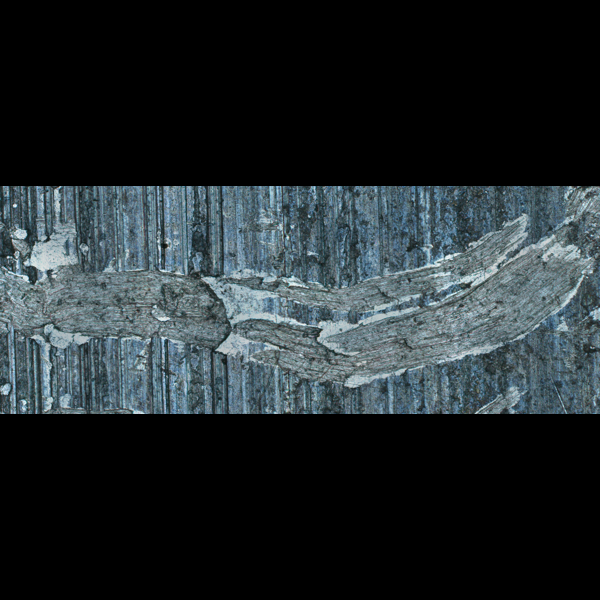d: (260, 257, 503, 393), (110, 262, 300, 378), (455, 193, 595, 340), (0, 207, 109, 365), (0, 377, 75, 414)
